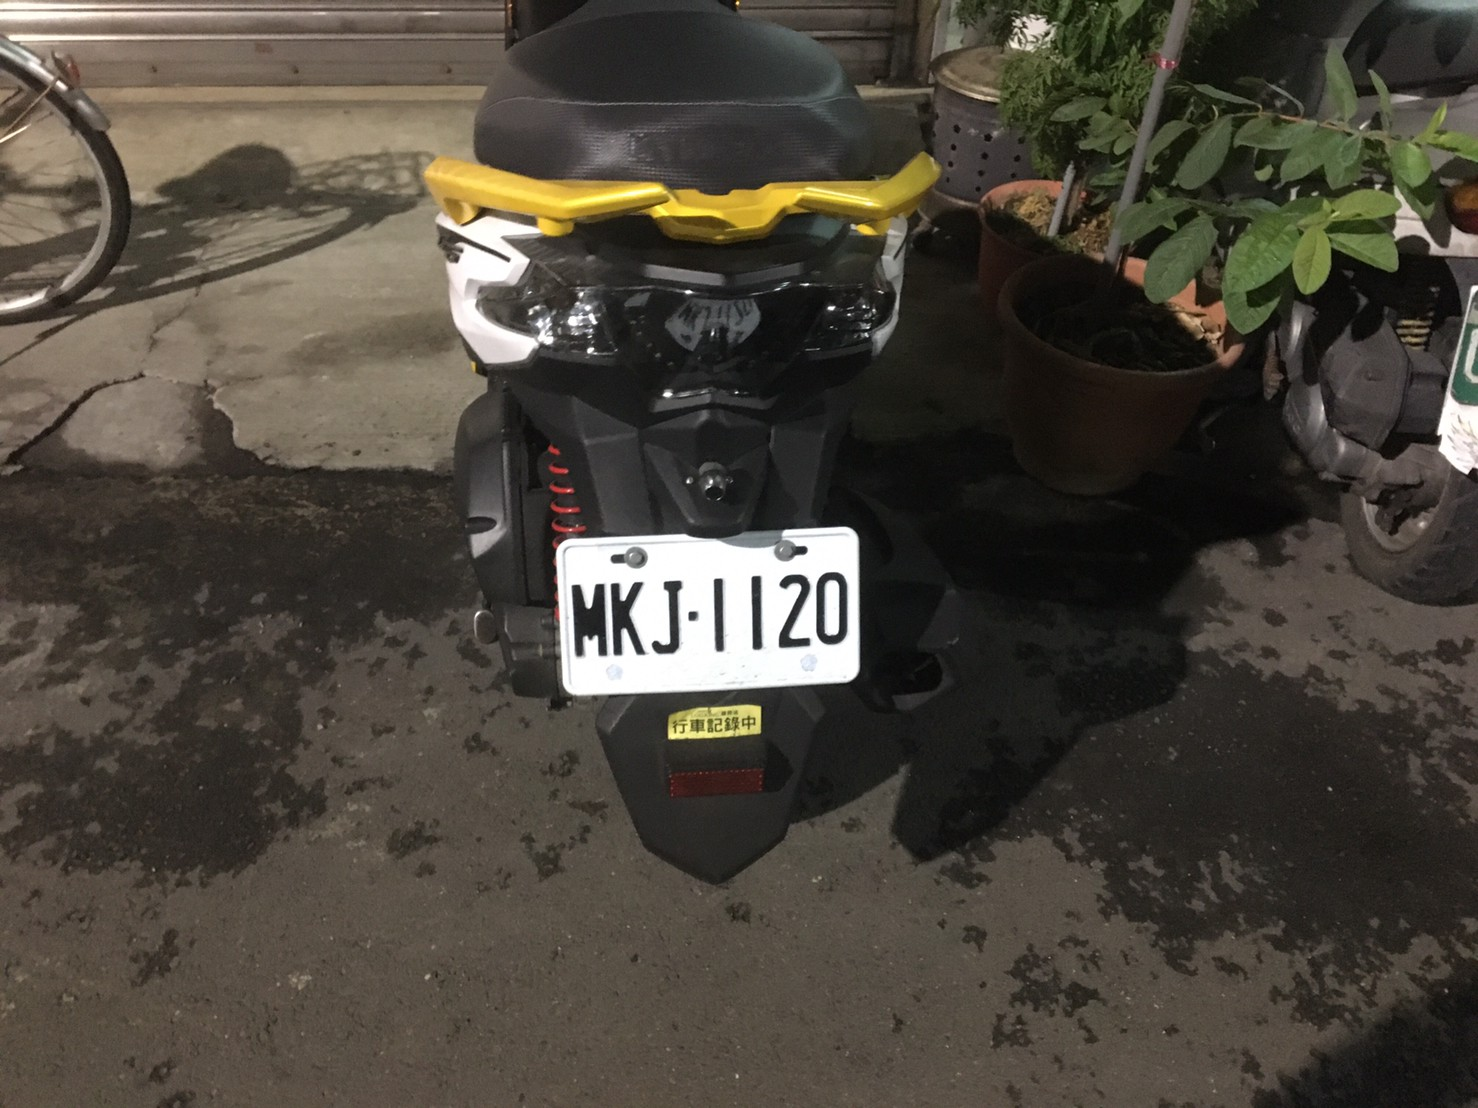LP: (549, 521, 868, 697)
